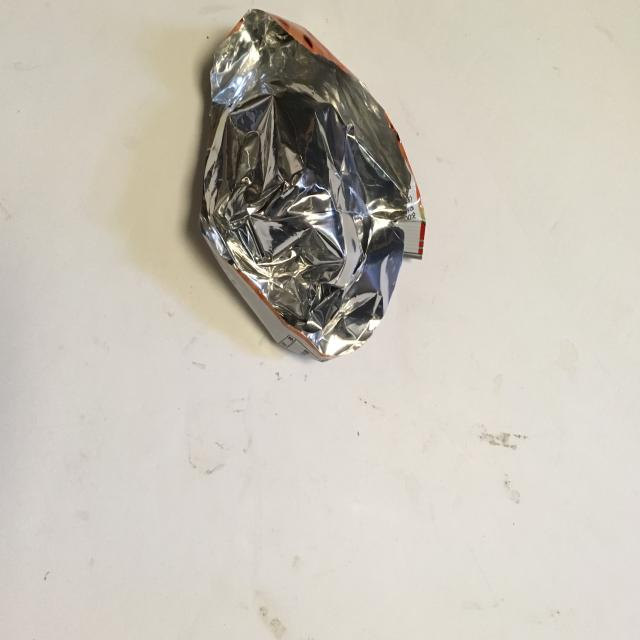plastic: (198, 8, 427, 362)
